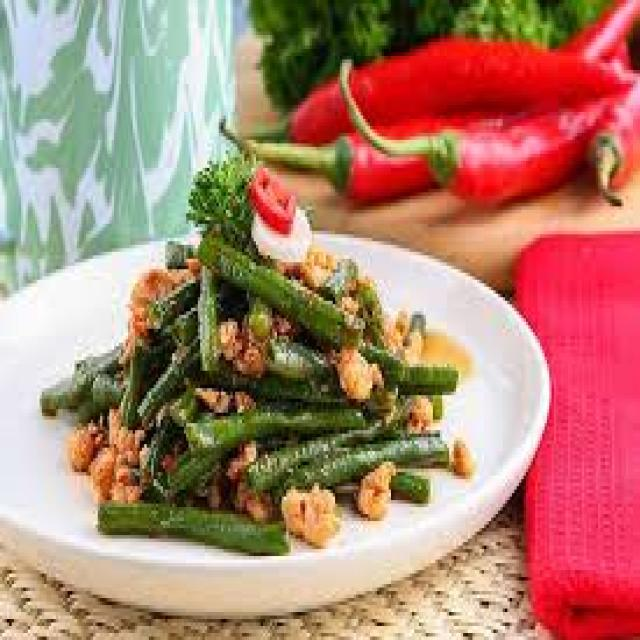kacang_panjang: (39, 230, 466, 554)
